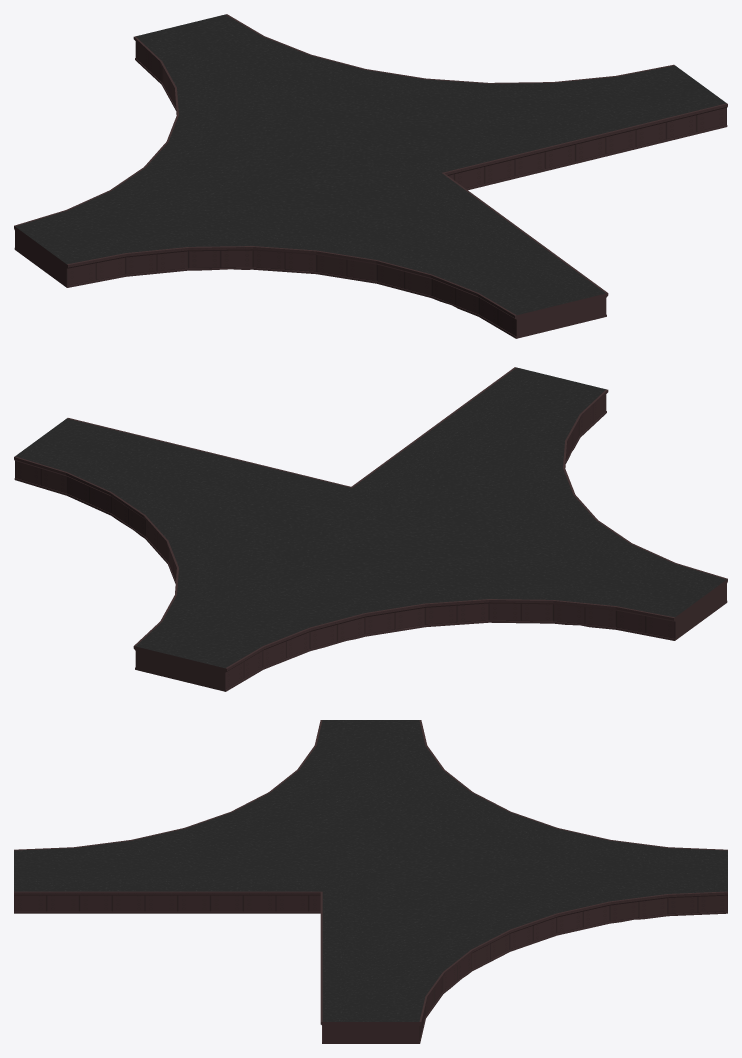
The model's file is SW_ENV_EL_TrackBase_Junction_270Deg.fbx.
3 renders of one model, top to bottom at view 1: azimuth 30°, elevation 25°; view 2: azimuth 150°, elevation 25°; view 3: azimuth 270°, elevation 25°, orthographic. The views are drawn at different scales.
Visible parts, largest first — view 1: SW_ENV_EL_TrackBase_Junction_270Deg; view 2: SW_ENV_EL_TrackBase_Junction_270Deg; view 3: SW_ENV_EL_TrackBase_Junction_270Deg.
Boxes of the visible parts, x1,y1,x2,y2 form: SW_ENV_EL_TrackBase_Junction_270Deg: (14, 14, 727, 338); SW_ENV_EL_TrackBase_Junction_270Deg: (14, 367, 727, 691); SW_ENV_EL_TrackBase_Junction_270Deg: (14, 720, 727, 1043).
Size of the model in its own units: 5450 by 185 by 5450.
